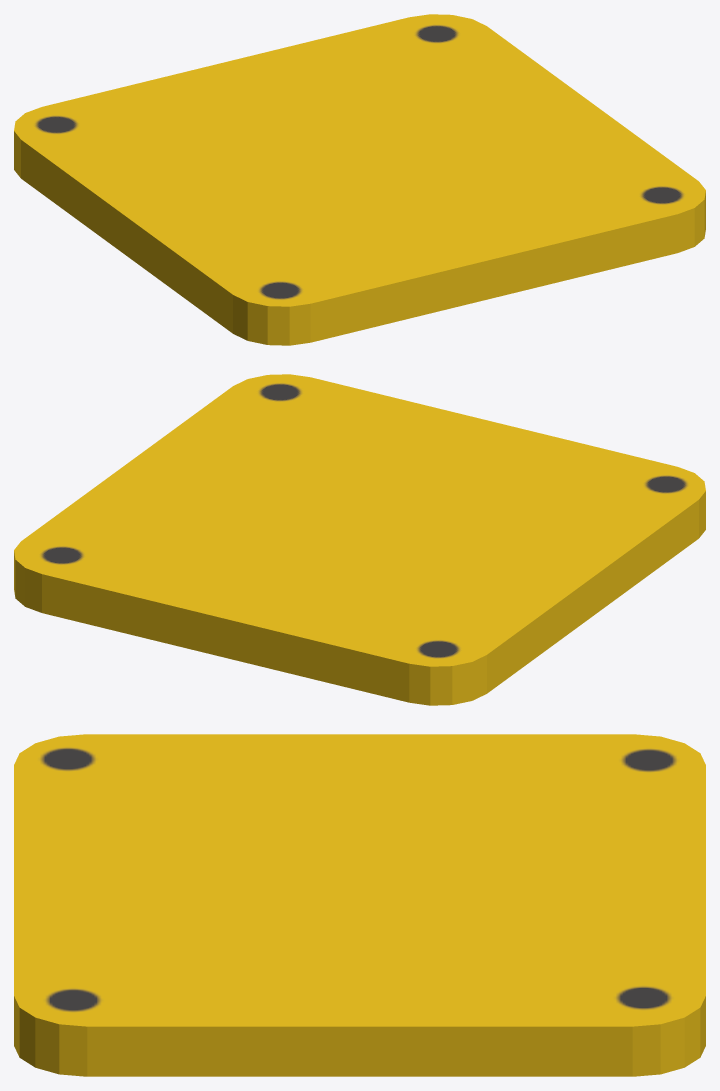
The model's file is slideFloor.obj.
The picture shows the model from 3 angles, top to bottom: view 1: azimuth 30°, elevation 25°; view 2: azimuth 150°, elevation 25°; view 3: azimuth 270°, elevation 25°; orthographic projection. The views are drawn at different scales.
Parts seen in each view (by area): view 1: Cube_Cube.001; view 2: Cube_Cube.001; view 3: Cube_Cube.001.
Boxes of the visible parts, x1,y1,x2,y2 form: Cube_Cube.001: (14, 14, 705, 345); Cube_Cube.001: (14, 374, 705, 705); Cube_Cube.001: (14, 734, 705, 1076).
Size of the model in its own units: 10 by 0.8 by 10.
1 material, 1 textured.
